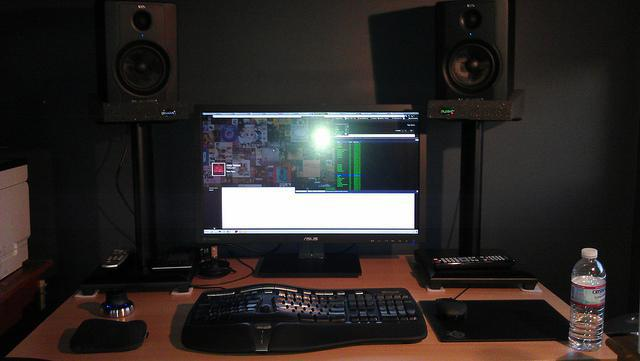tv: (182, 95, 437, 283)
